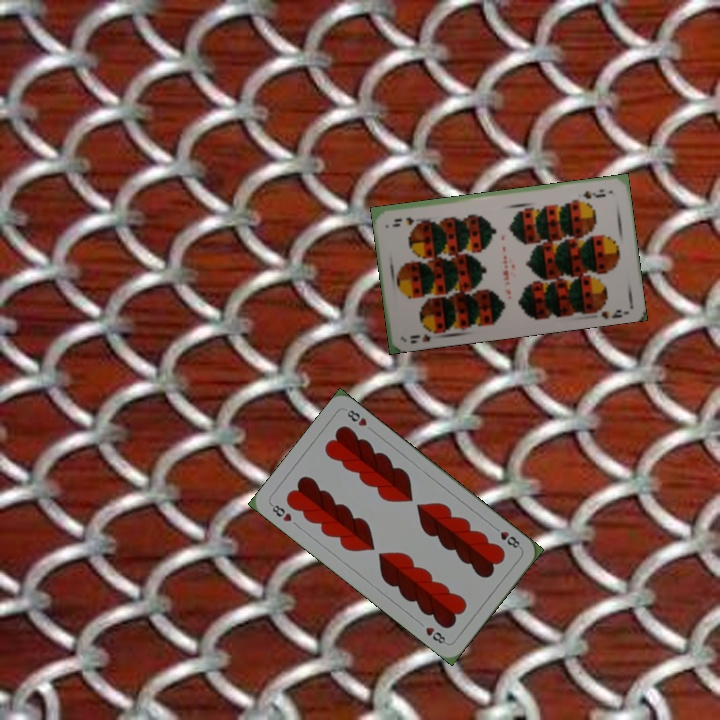H8: (489, 522, 524, 552), (266, 500, 294, 524)
S9: (406, 324, 442, 344), (579, 185, 609, 201)
